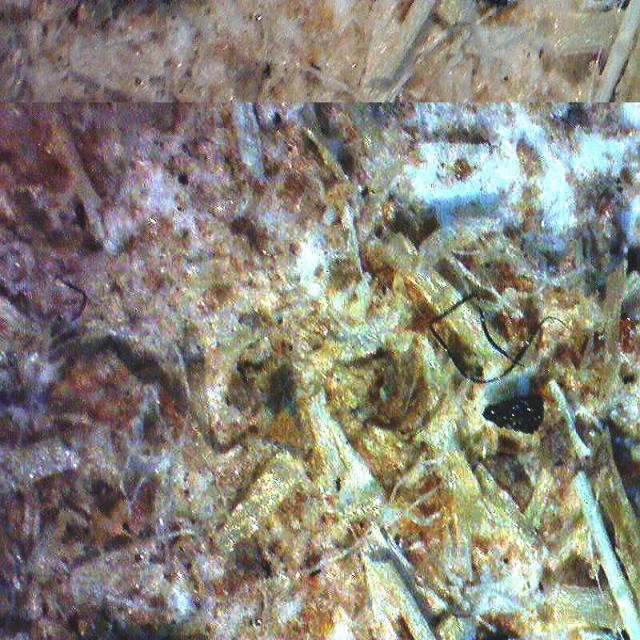microplastic: (429, 294, 566, 385)
